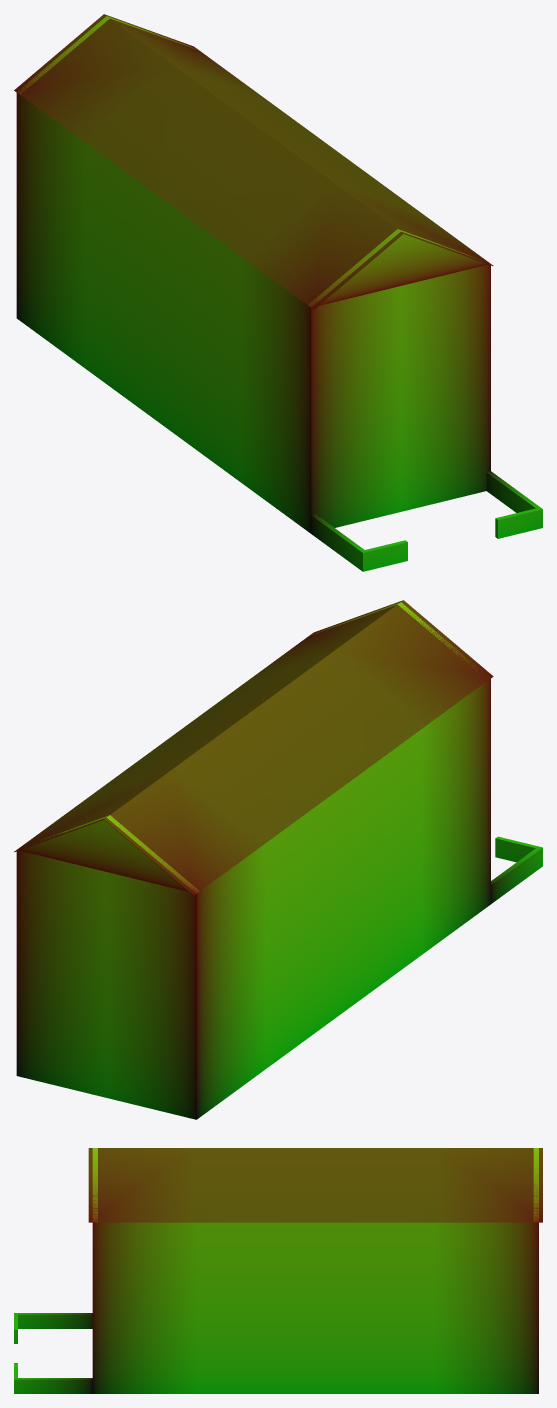
The model's file is biet_thu_6x20.far.glb.
The picture shows the model from 3 angles, top to bottom: view 1: azimuth 30°, elevation 25°; view 2: azimuth 150°, elevation 25°; view 3: azimuth 270°, elevation 25°; orthographic projection. The views are drawn at different scales.
Visible parts, largest first — view 1: biet_thu_6x20; view 2: biet_thu_6x20; view 3: biet_thu_6x20.
Boxes of the visible parts, <box> form: biet_thu_6x20: <box>14,14,542,571</box>; biet_thu_6x20: <box>14,600,542,1119</box>; biet_thu_6x20: <box>14,1148,542,1393</box>.
Size of what is drawn, in the model's own units: 6 by 8.93 by 20.15.
